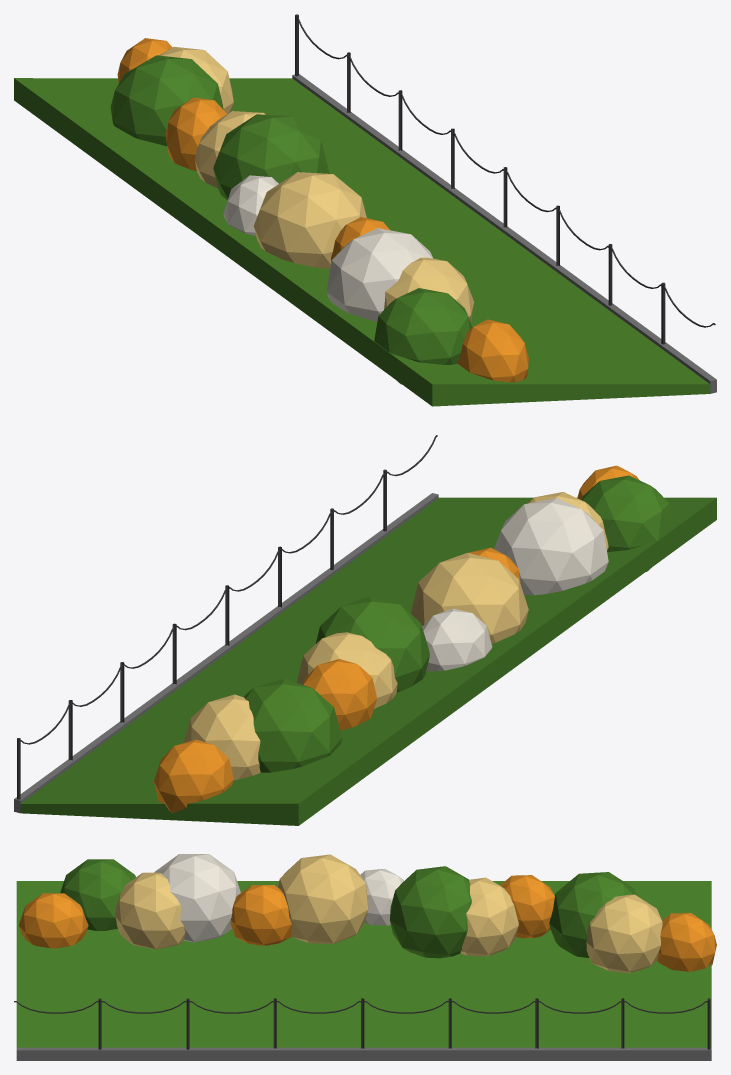
Rendered from GrassWithBushes.glb.
3 renders of one model, top to bottom at view 1: azimuth 30°, elevation 25°; view 2: azimuth 150°, elevation 25°; view 3: azimuth 270°, elevation 25°, orthographic. The views are drawn at different scales.
Parts seen in each view (by area): view 1: Cube; view 2: Cube; view 3: Cube.
Boxes of the visible parts, x1,y1,x2,y2 form: Cube: (14,14,716,406); Cube: (14,435,716,825); Cube: (14,854,716,1060).
Size of the model in its own units: 19.28 by 8.81 by 49.6.
